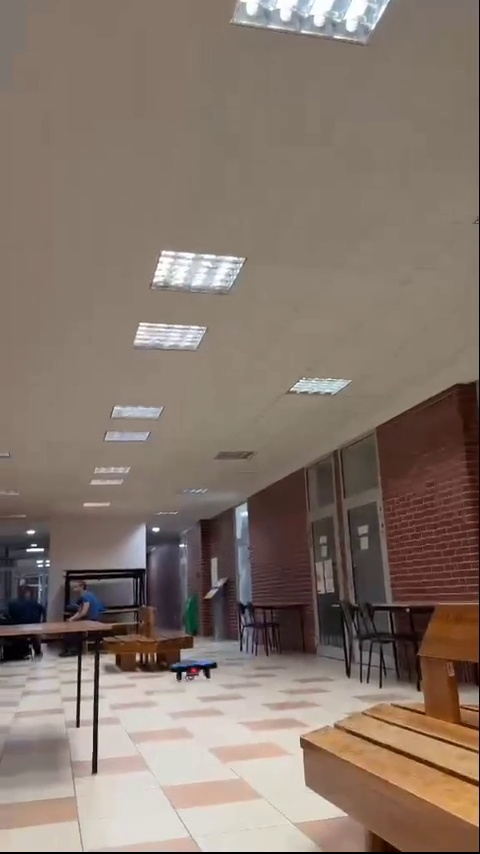drone: (171, 662, 222, 681)
no vest: (6, 583, 48, 622), (68, 582, 102, 618)
